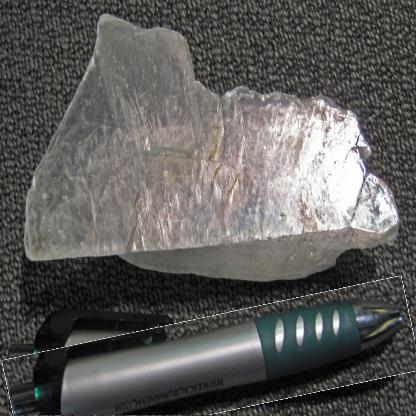Pen: (5, 296, 415, 415)
